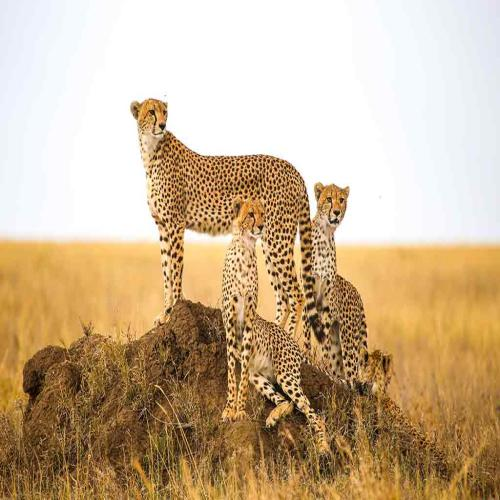cheetah-endangered: (129, 97, 325, 348), (220, 194, 329, 442), (310, 176, 370, 393)
